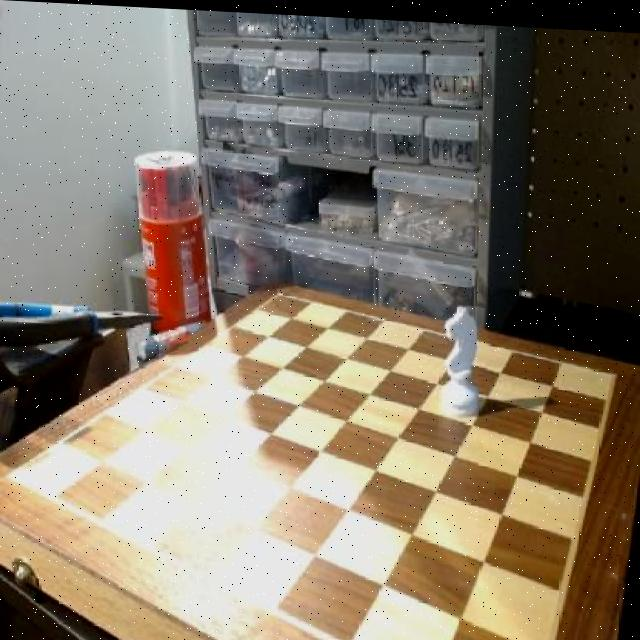white-king: (436, 301, 486, 419)
